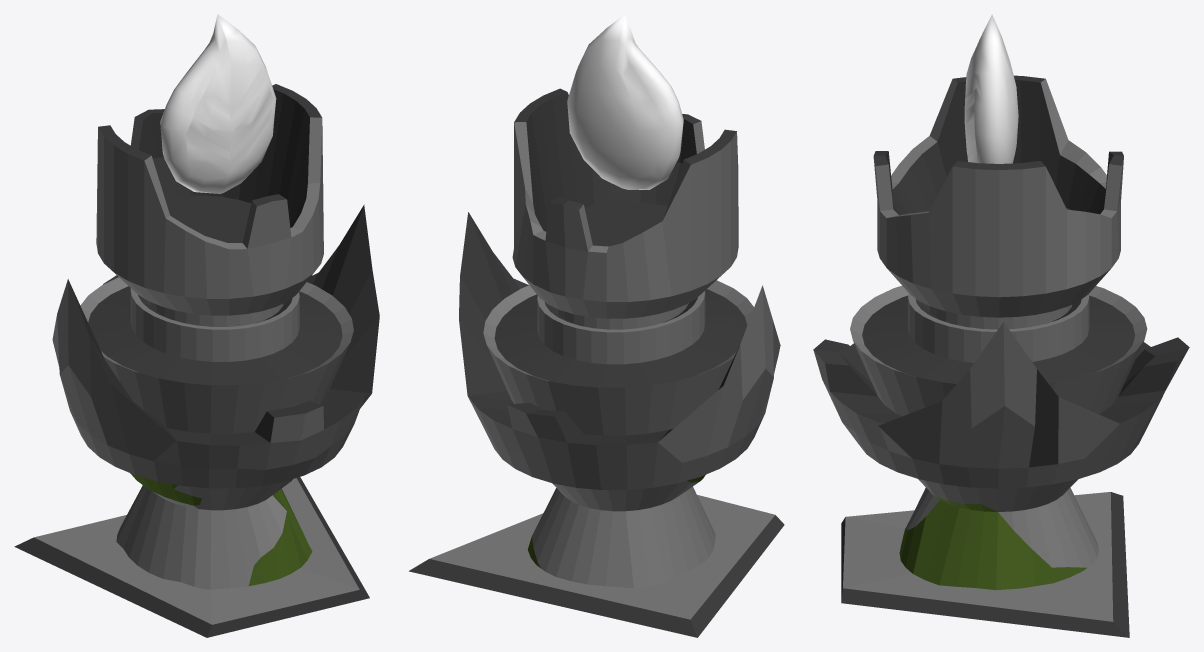
File: statue - earth.glb
3 views of the same model, side by side, from view 1: azimuth 30°, elevation 25°; view 2: azimuth 150°, elevation 25°; view 3: azimuth 270°, elevation 25° (orthographic).
Visible parts, largest first — view 1: Cylinder, Cube; view 2: Cylinder, Cube; view 3: Cylinder, Cube.
Boxes of the visible parts, x1,y1,x2,y2 form: Cylinder: (14, 84, 379, 637); Cube: (160, 14, 276, 193); Cylinder: (409, 88, 784, 637); Cube: (567, 14, 683, 189); Cylinder: (813, 75, 1189, 637); Cube: (964, 14, 1018, 163).
Size of the model in its own units: 1.9 by 3.34 by 2.07.
